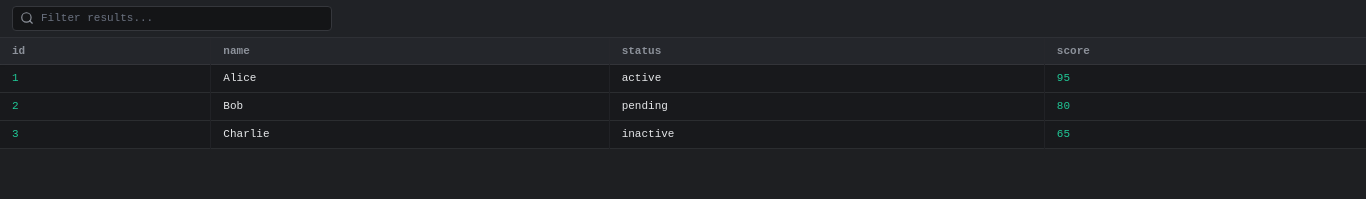
Test case: EditableDataGrid component › discards all edits and reverts cell values when Discard is clicked
Double-click the text "Alice".
double_click(410, 79)  # box [211,65,609,93]
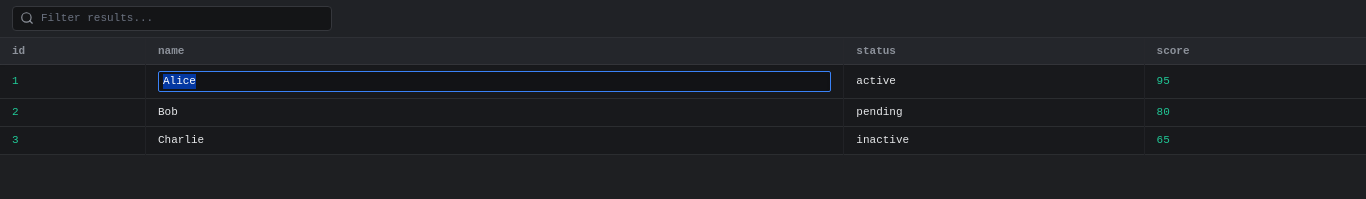
Replace the text in the field showing "Alice" with "Alicia" at (495, 82), box [158,71,831,92]
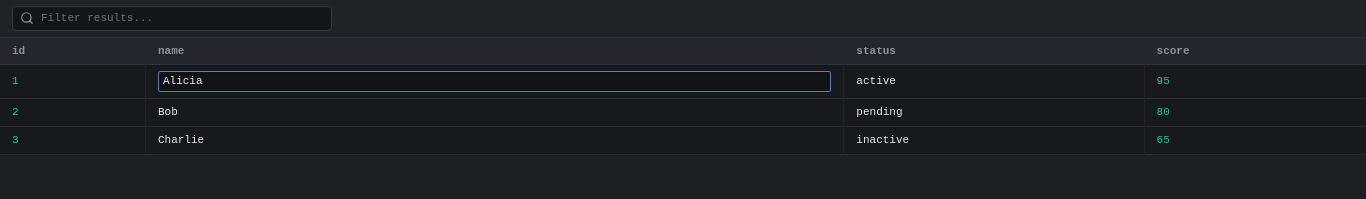
Leave the field showing "Alice", box [158,71,831,92]
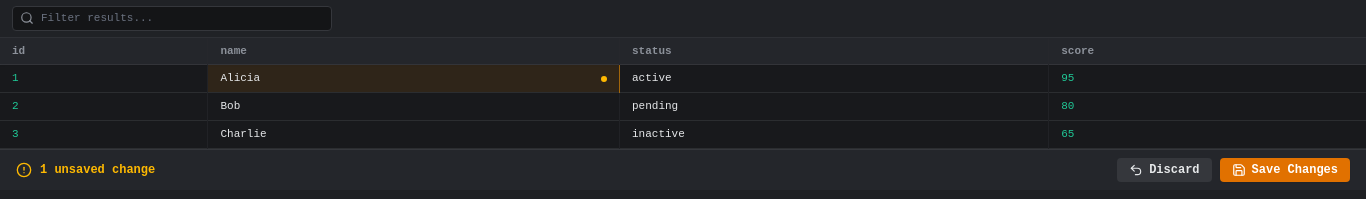
expect the text "Alicia" is shown: met, box [220,72,260,84]
Click the button "Discard".
click(1164, 170)  # box [1117,158,1212,182]
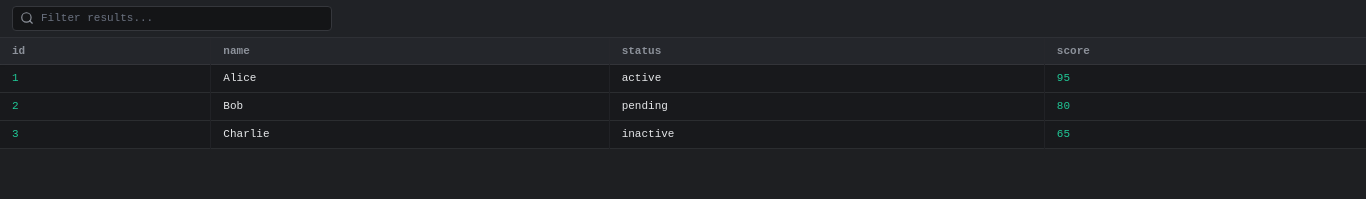
expect the text "Alice" is shown: met, box [223,72,256,84]
expect the text "Alicia" is gone: met
expect the text "unsaved change" is gone: met
